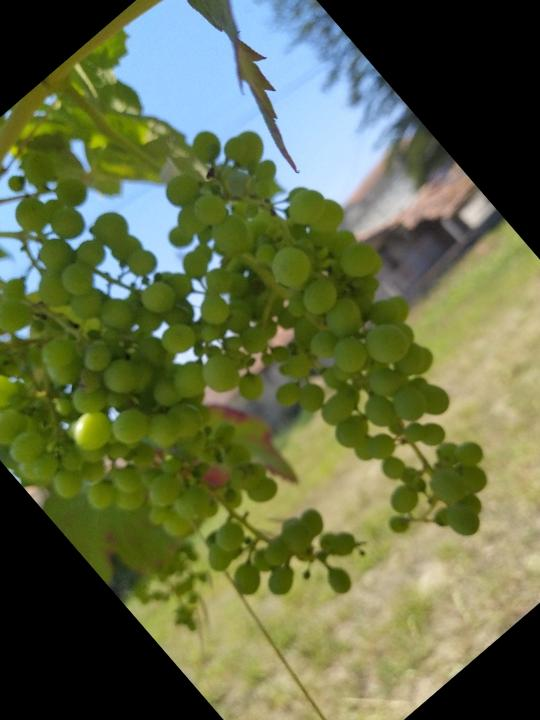grape: (0, 132, 407, 706), (92, 89, 540, 592)
